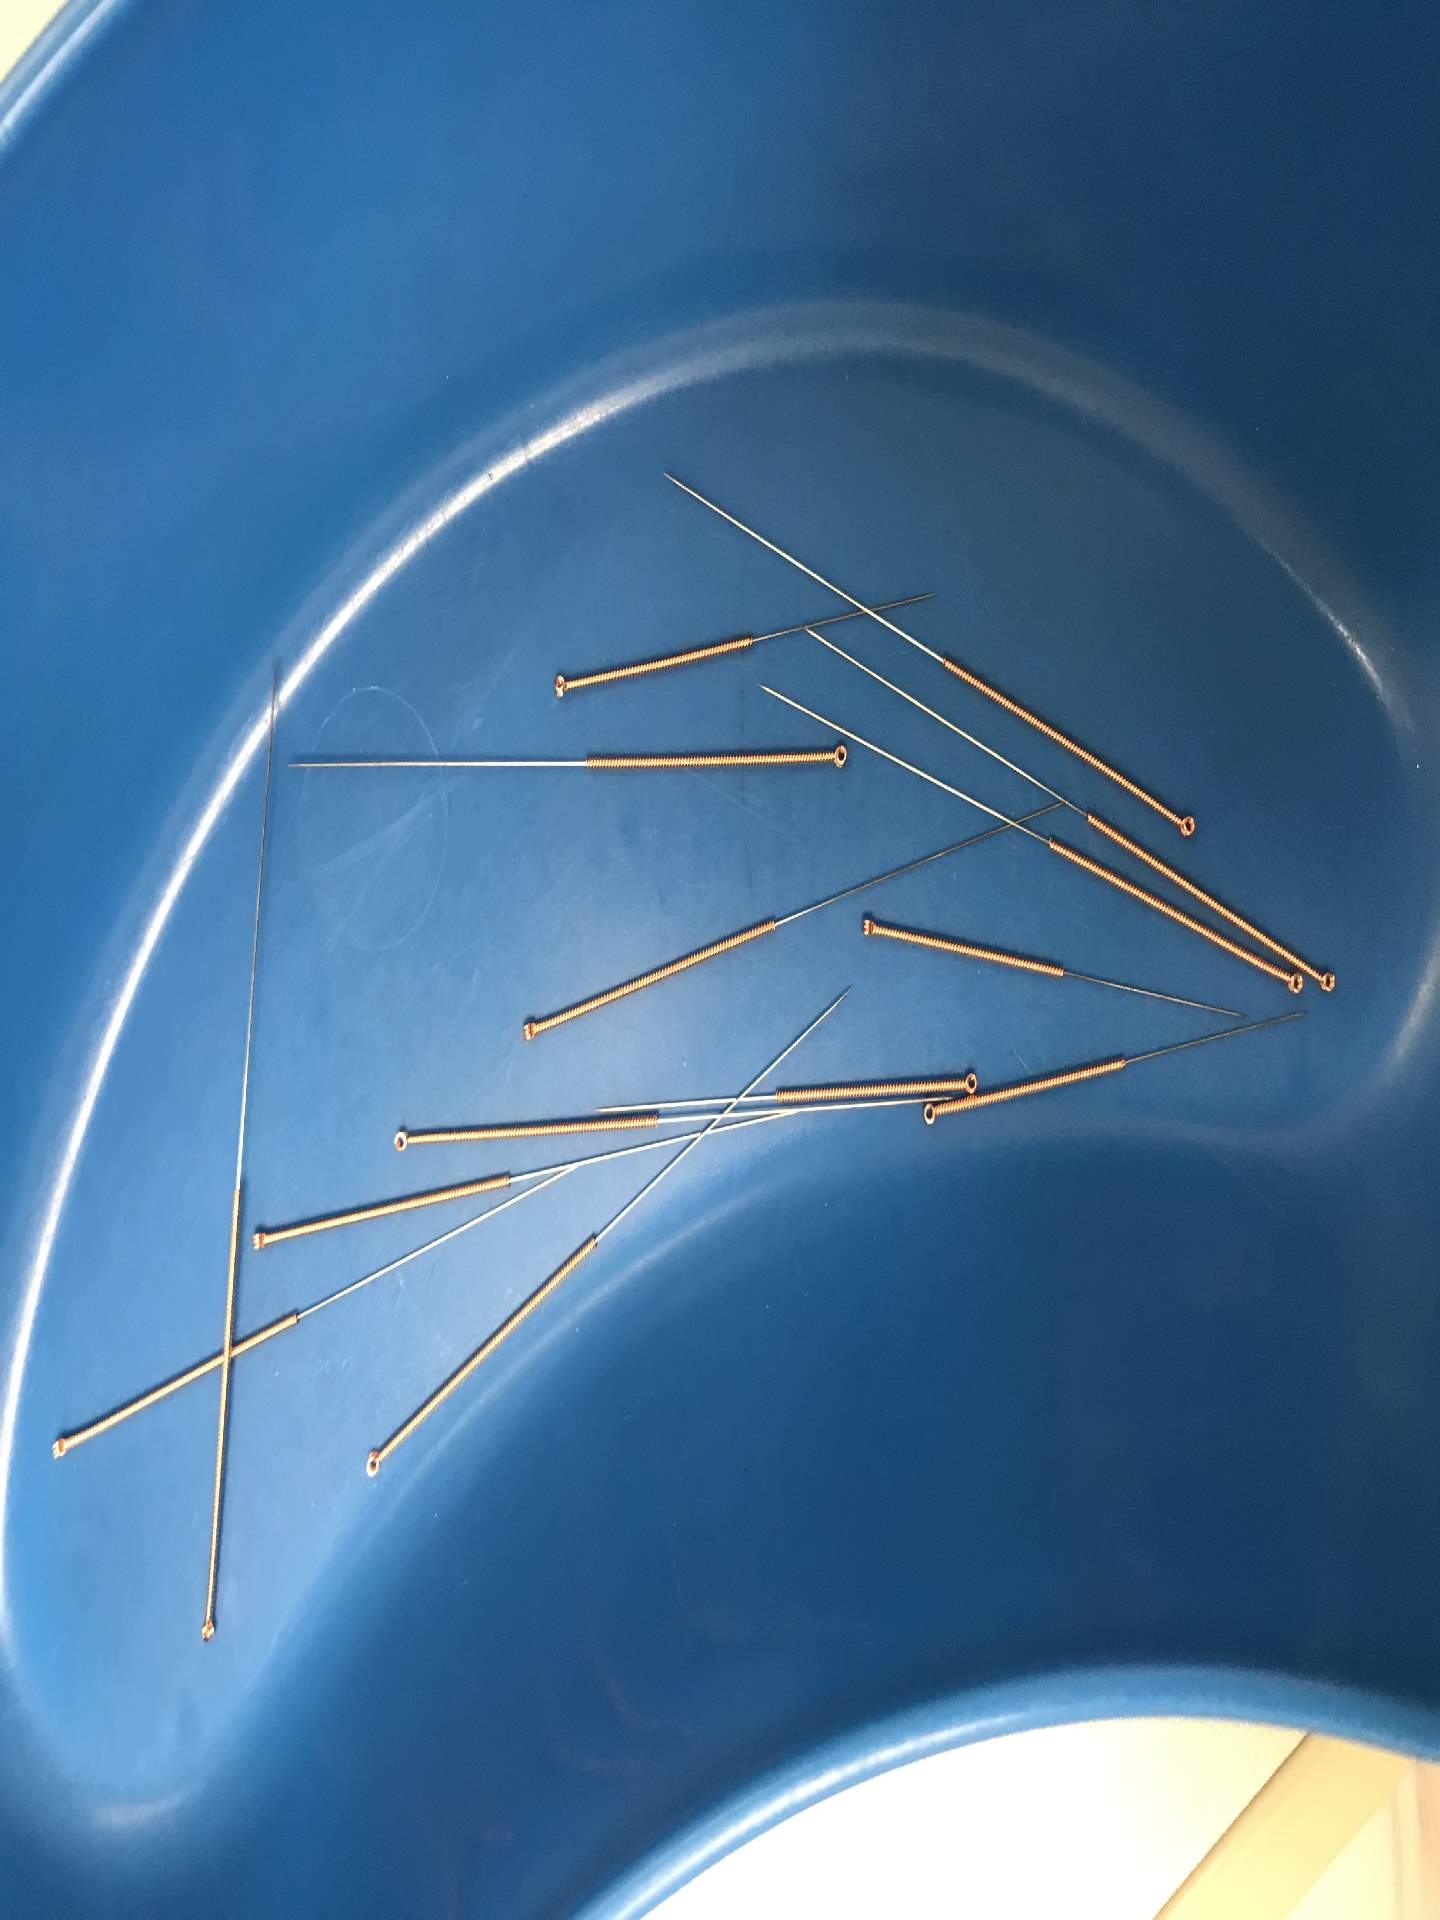needle: (821, 736, 853, 773), (357, 1445, 387, 1482), (1311, 965, 1342, 998), (514, 1013, 543, 1048), (1171, 807, 1199, 841), (546, 670, 575, 701), (45, 1432, 74, 1463), (386, 1125, 414, 1155), (855, 912, 882, 943), (194, 1615, 219, 1648), (1278, 969, 1307, 998), (953, 1067, 982, 1096), (917, 1099, 942, 1128), (247, 1226, 272, 1255)
